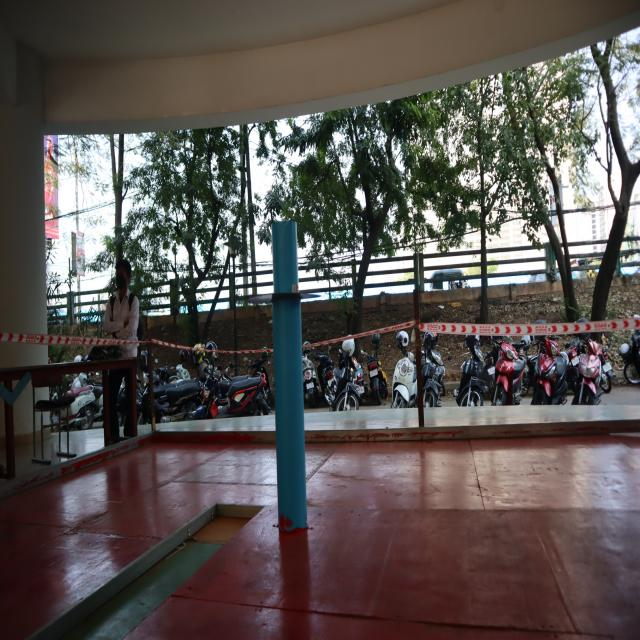pole: (240, 211, 328, 396)
